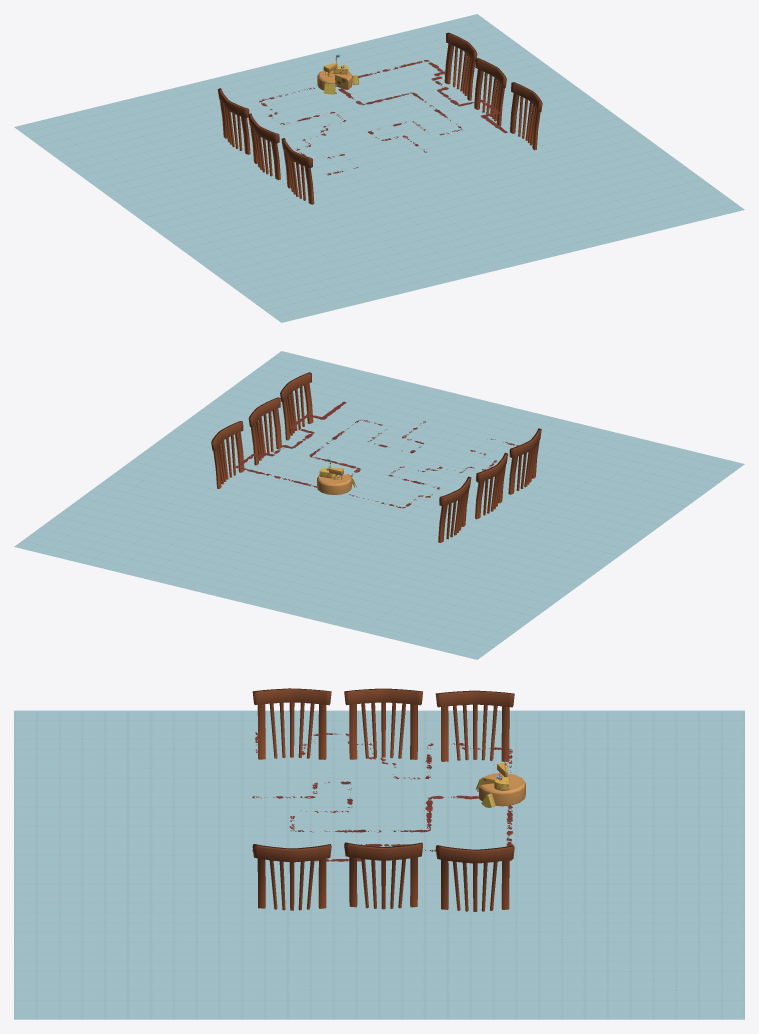
3 views of the same model, one above another, from view 1: azimuth 30°, elevation 25°; view 2: azimuth 150°, elevation 25°; view 3: azimuth 270°, elevation 25° (orthographic). The views are drawn at different scales.
Parts seen in each view (by area): view 1: Floor, Chairs, Path3; view 2: Floor, Chairs, Path3, Cheese_Roll; view 3: Floor, Chairs, Cheese_Roll, Path2, Path1.
Boxes of the visible parts, <box> form: Floor: <box>14,14,744,322</box>; Chairs: <box>217,32,542,204</box>; Path3: <box>358,60,507,133</box>; Floor: <box>14,351,744,659</box>; Chairs: <box>211,372,541,542</box>; Path3: <box>235,401,346,487</box>; Cheese_Roll: <box>317,473,351,494</box>; Floor: <box>14,710,744,1019</box>; Chairs: <box>252,688,514,911</box>; Cheese_Roll: <box>479,773,525,806</box>; Path2: <box>252,781,478,832</box>; Path1: <box>255,732,512,779</box>.
Size of the model in its own units: 128 by 20.74 by 128.
